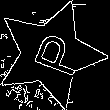P_W: (19, 27, 82, 81)
